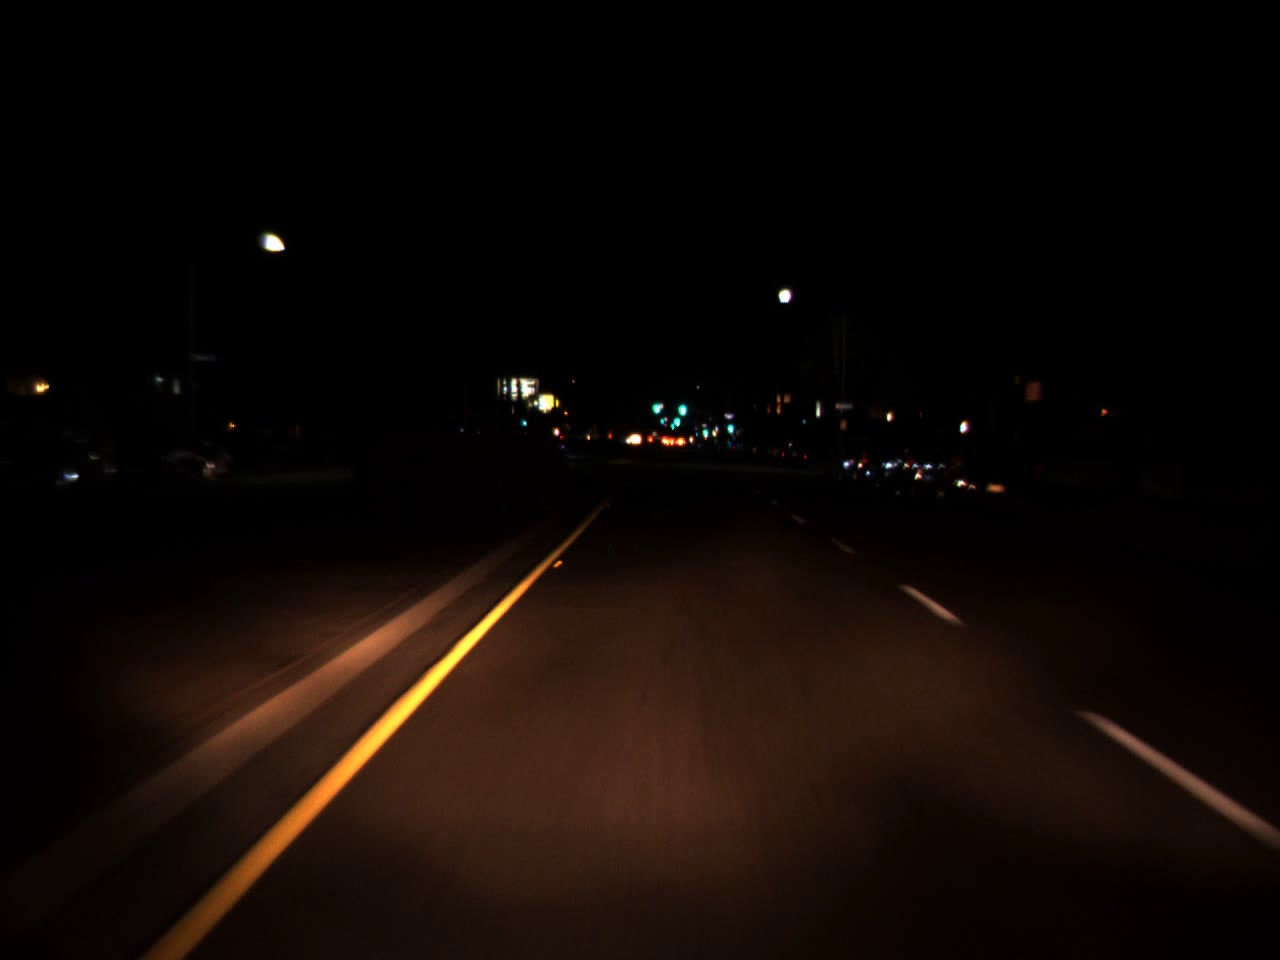go: (651, 389, 660, 419), (675, 395, 687, 416), (700, 421, 709, 439), (671, 411, 681, 426), (658, 413, 665, 425)
